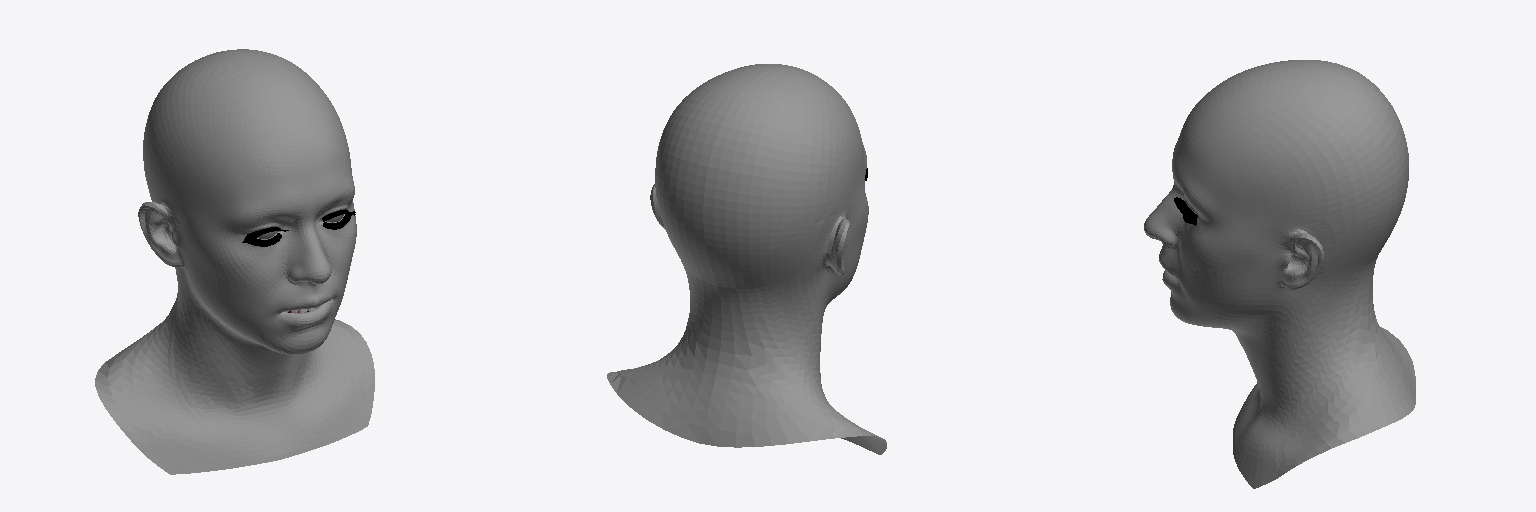
The model's file is mouthLowerDown_R.obj.
3 views of the same model, side by side, from view 1: azimuth 30°, elevation 25°; view 2: azimuth 150°, elevation 25°; view 3: azimuth 270°, elevation 25° (orthographic).
Size of the model in its own units: 24.83 by 33.81 by 22.32.